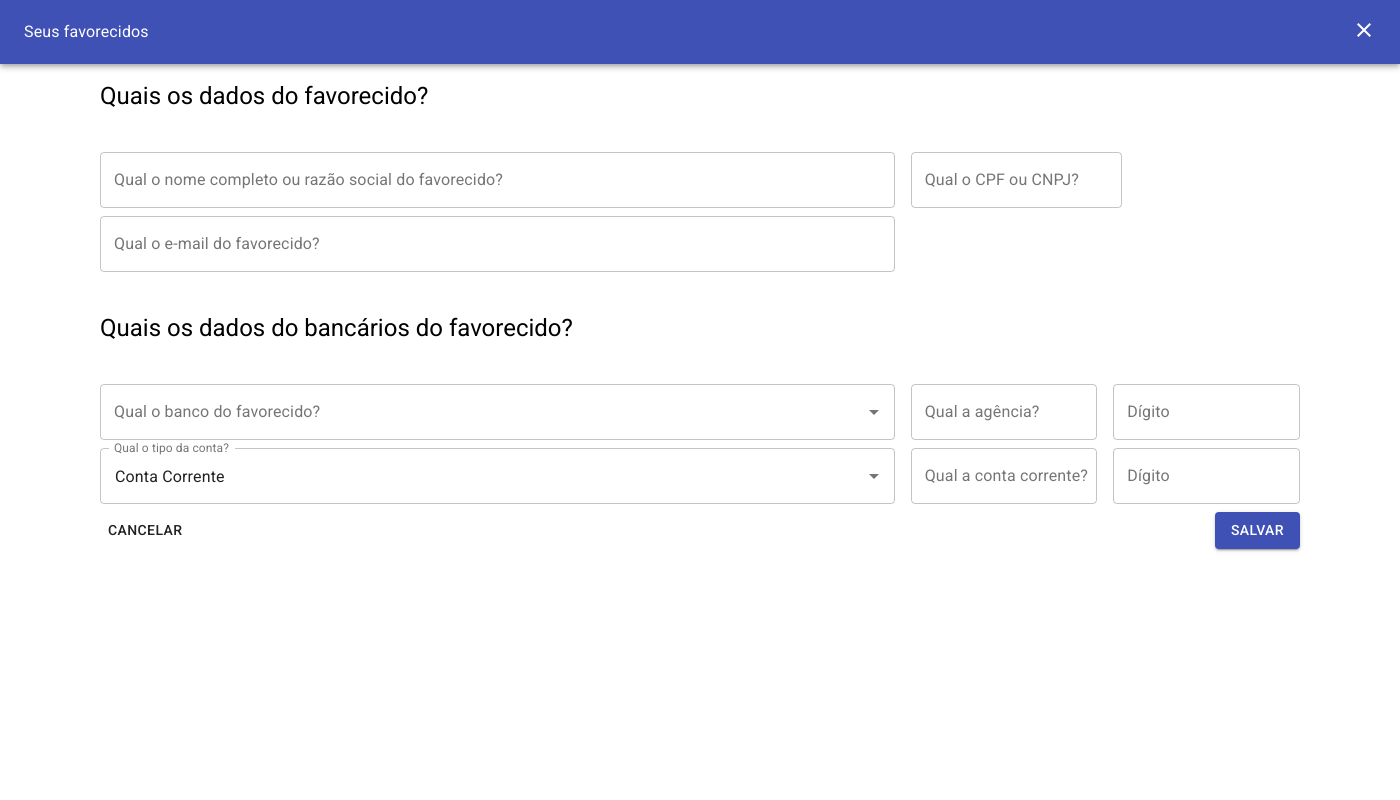
Test: Favored new › should show errors
Click the button "Salvar": (1258, 531) [1215,512,1300,549]
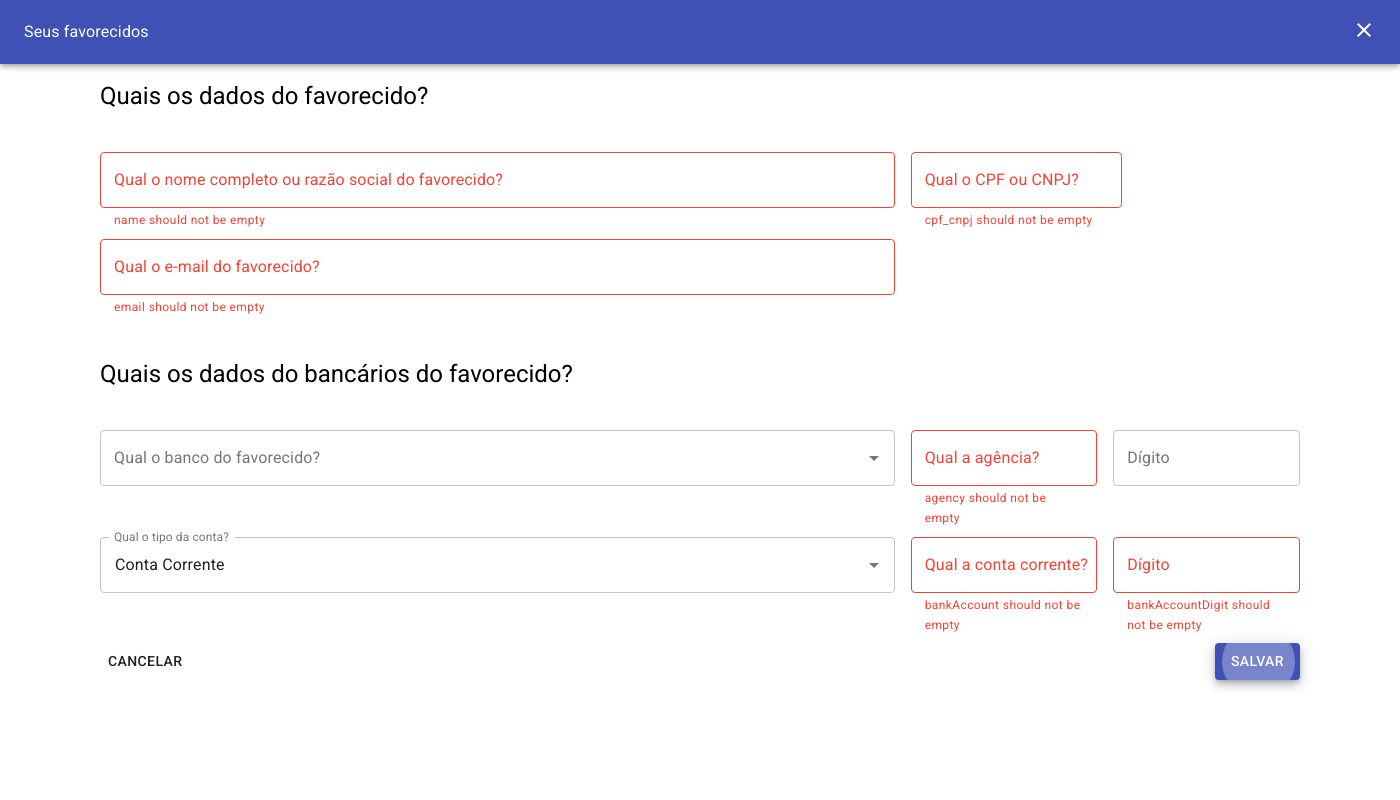
Expected: the text "name should not be empty" is shown, [114,213,265,227]
Expected: the text "cpf_cnpj should not be empty" is shown, [925,211,1108,231]
Expected: the text "email should not be empty" is shown, [114,300,265,314]
